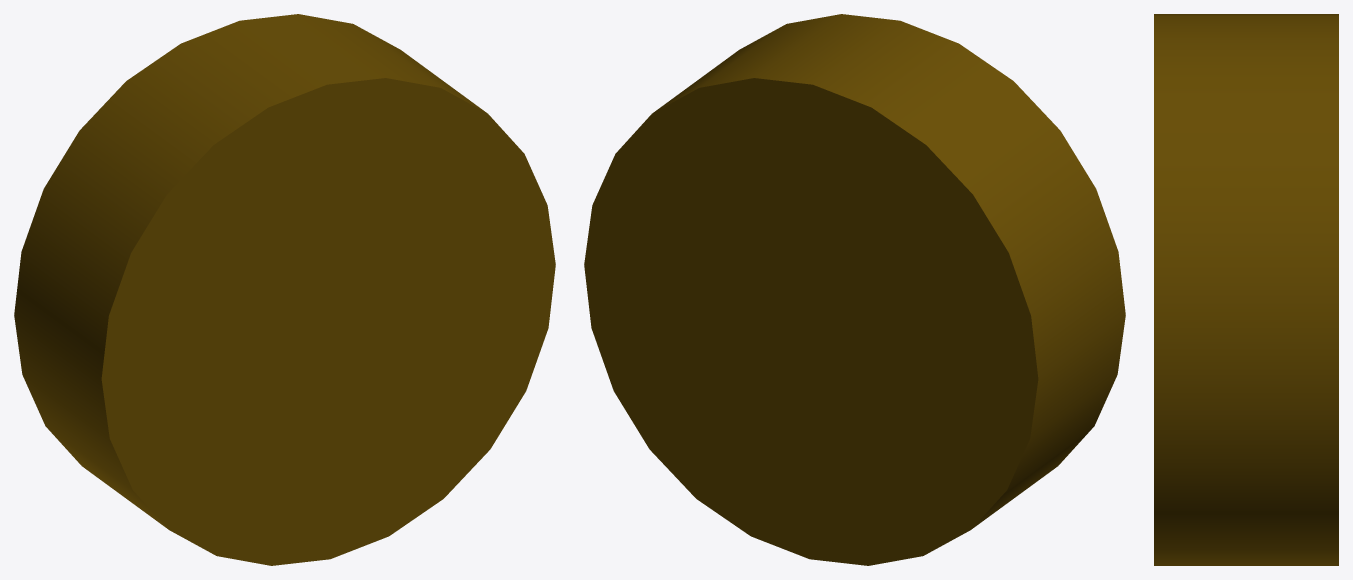
Rendered from original-3.obj.
3 renders of one model, left to right at view 1: azimuth 30°, elevation 25°; view 2: azimuth 150°, elevation 25°; view 3: azimuth 270°, elevation 25°, orthographic. The views are drawn at different scales.
Visible parts, largest first — view 1: Group3/mesh7/mesh7-geometry#mesh7-geometry; view 2: Group3/mesh7/mesh7-geometry#mesh7-geometry; view 3: Group3/mesh7/mesh7-geometry#mesh7-geometry.
Boxes of the visible parts, box(x1,y1,x2,y2) form: Group3/mesh7/mesh7-geometry#mesh7-geometry: box(14, 14, 555, 565); Group3/mesh7/mesh7-geometry#mesh7-geometry: box(584, 14, 1125, 565); Group3/mesh7/mesh7-geometry#mesh7-geometry: box(1154, 14, 1338, 565).
Size of the model in its own units: 0.0371 by 0.0371 by 0.0124.
